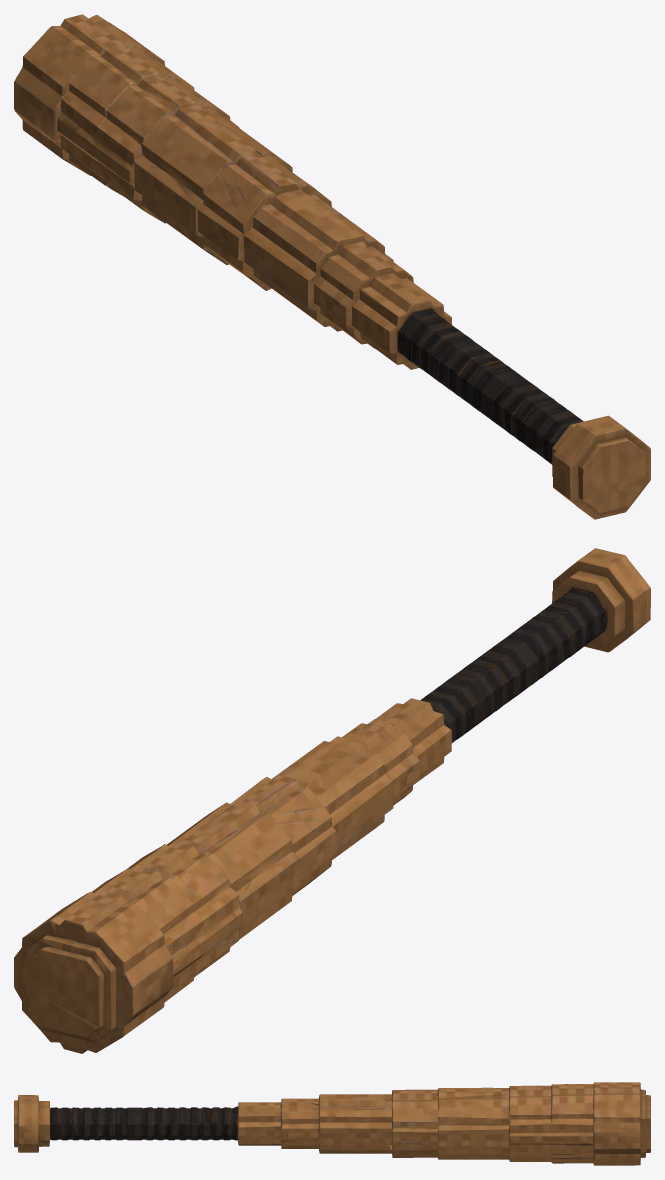
File: bat.glb
The picture shows the model from 3 angles, top to bottom: view 1: azimuth 30°, elevation 25°; view 2: azimuth 150°, elevation 25°; view 3: azimuth 270°, elevation 25°; orthographic projection. The views are drawn at different scales.
Visible parts, largest first — view 1: BatMesh; view 2: BatMesh; view 3: BatMesh.
Boxes of the visible parts, x1,y1,x2,y2 form: BatMesh: [14, 14, 650, 519]; BatMesh: [14, 548, 650, 1053]; BatMesh: [14, 1082, 650, 1165].
Size of the model in its own units: 0.1055 by 0.1095 by 0.84.
1 material, 1 textured.
